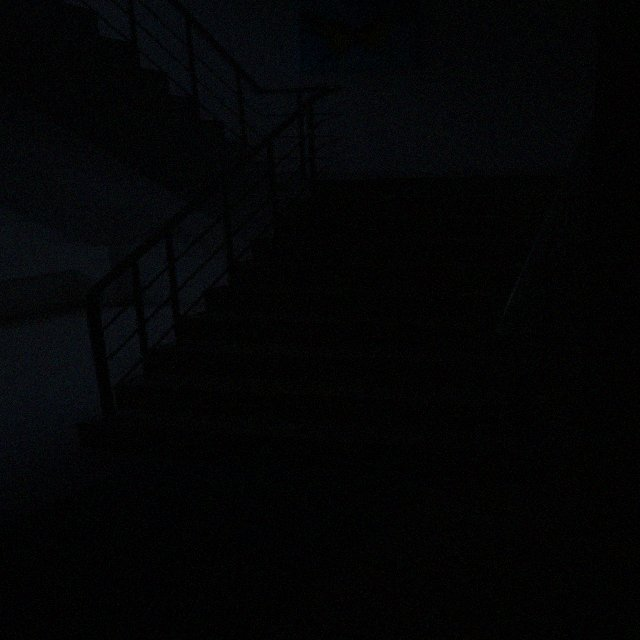stair: (0, 0, 590, 479)
